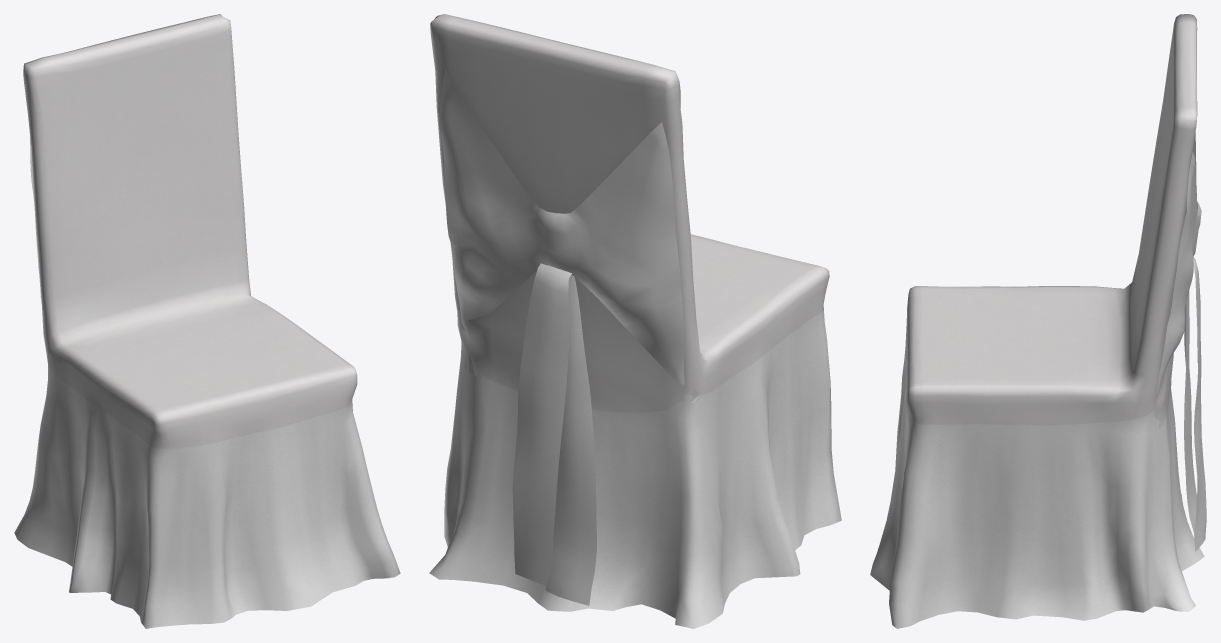
File: EventChair02_1.FBX
3 views of the same model, side by side, from view 1: azimuth 30°, elevation 25°; view 2: azimuth 150°, elevation 25°; view 3: azimuth 270°, elevation 25° (orthographic). The views are drawn at different scales.
Visible parts, largest first — view 1: EventChair02_1; view 2: EventChair02_1; view 3: EventChair02_1.
Boxes of the visible parts, x1,y1,x2,y2 form: EventChair02_1: (14,14,400,628); EventChair02_1: (429,14,841,628); EventChair02_1: (870,14,1206,628).
Size of what is drawn, in the model's own units: 0.6865 by 1.14 by 0.7041.
